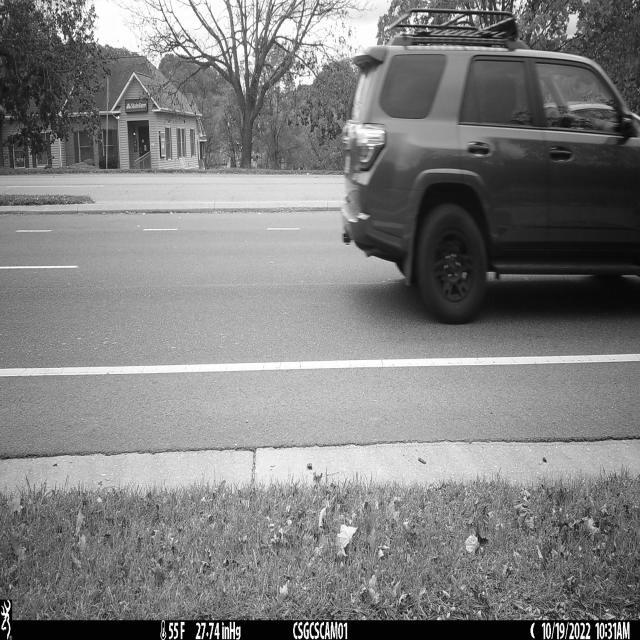SUV: (342, 8, 640, 326)
